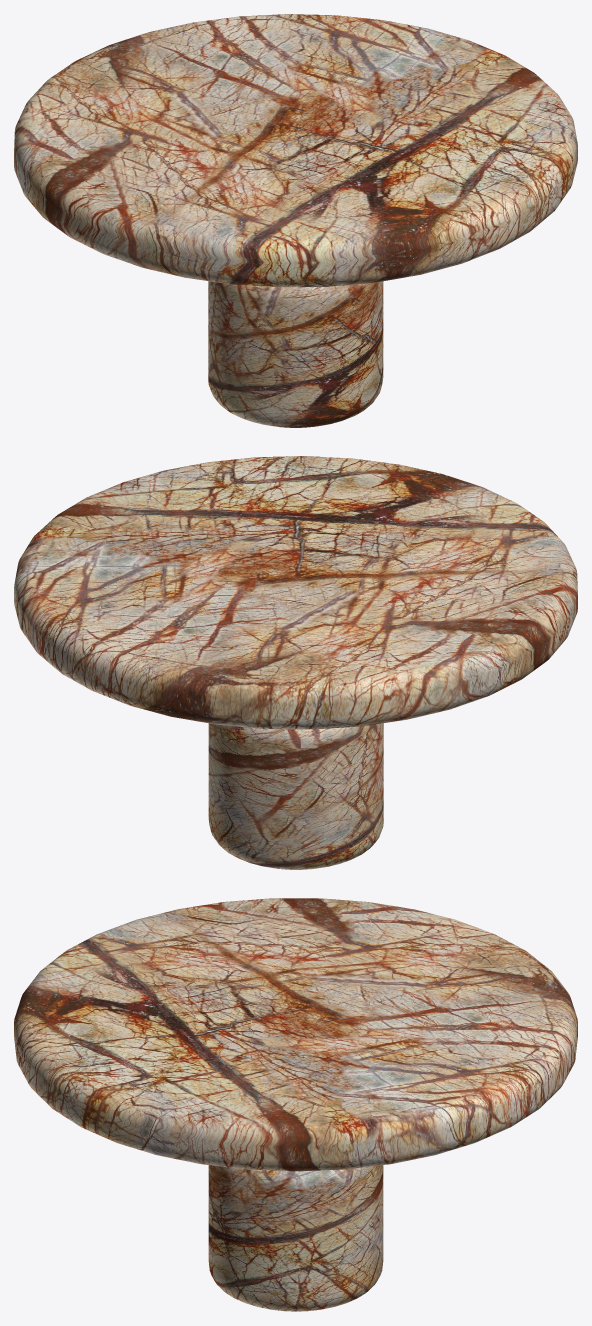
The model's file is Rock-Table-LargeDAE.DAE.
3 views of the same model, one above another, from view 1: azimuth 30°, elevation 25°; view 2: azimuth 150°, elevation 25°; view 3: azimuth 270°, elevation 25° (orthographic).
Parts seen in each view (by area): view 1: Group01, Line01; view 2: Group01, Line01; view 3: Group01, Line01.
Boxes of the visible parts, box(x1,y1,x2,y2) form: Group01: box(14, 14, 577, 287); Line01: box(208, 281, 383, 427); Group01: box(14, 456, 577, 729); Line01: box(208, 723, 383, 869); Group01: box(14, 898, 577, 1171); Line01: box(208, 1165, 383, 1311).
Bounding box in the file's own units: 69.95 × 70.02 × 37.46.
Materials: 1 (1 with a texture image).
